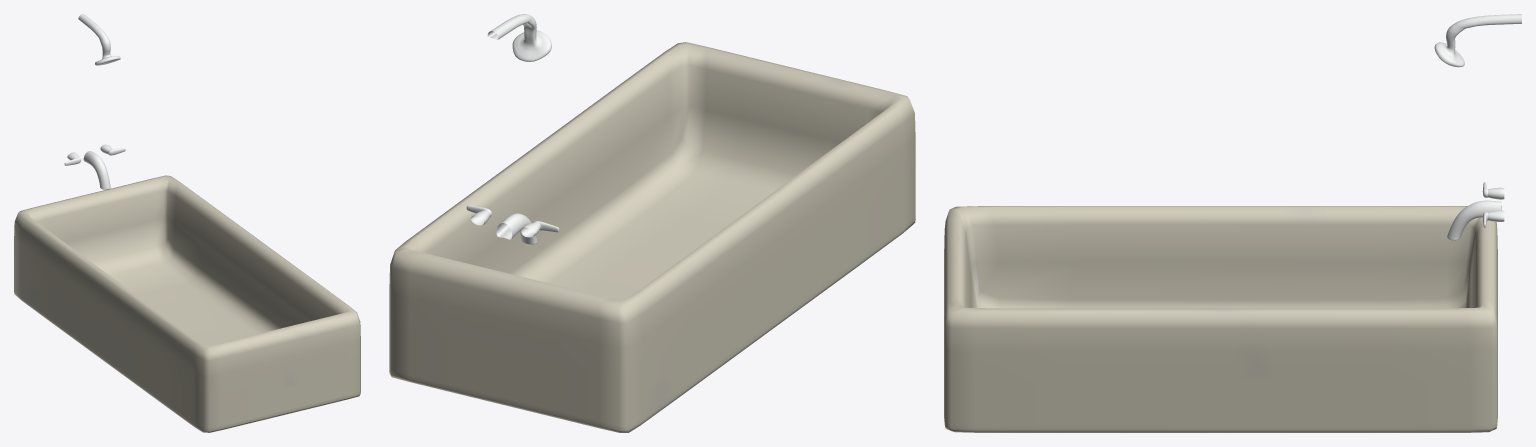
File: _finalBathTub.fbx
The picture shows the model from 3 angles, left to right: view 1: azimuth 30°, elevation 25°; view 2: azimuth 150°, elevation 25°; view 3: azimuth 270°, elevation 25°; orthographic projection. The views are drawn at different scales.
Visible parts, largest first — view 1: Bathtub; view 2: Bathtub; view 3: Bathtub.
Boxes of the visible parts, box(x1,y1,x2,y2) form: Bathtub: box(14, 14, 360, 432); Bathtub: box(389, 14, 915, 432); Bathtub: box(944, 14, 1521, 432).
Bounding box in the file's own units: 428 × 653 × 939.
Materials: 1 (1 with a texture image).
